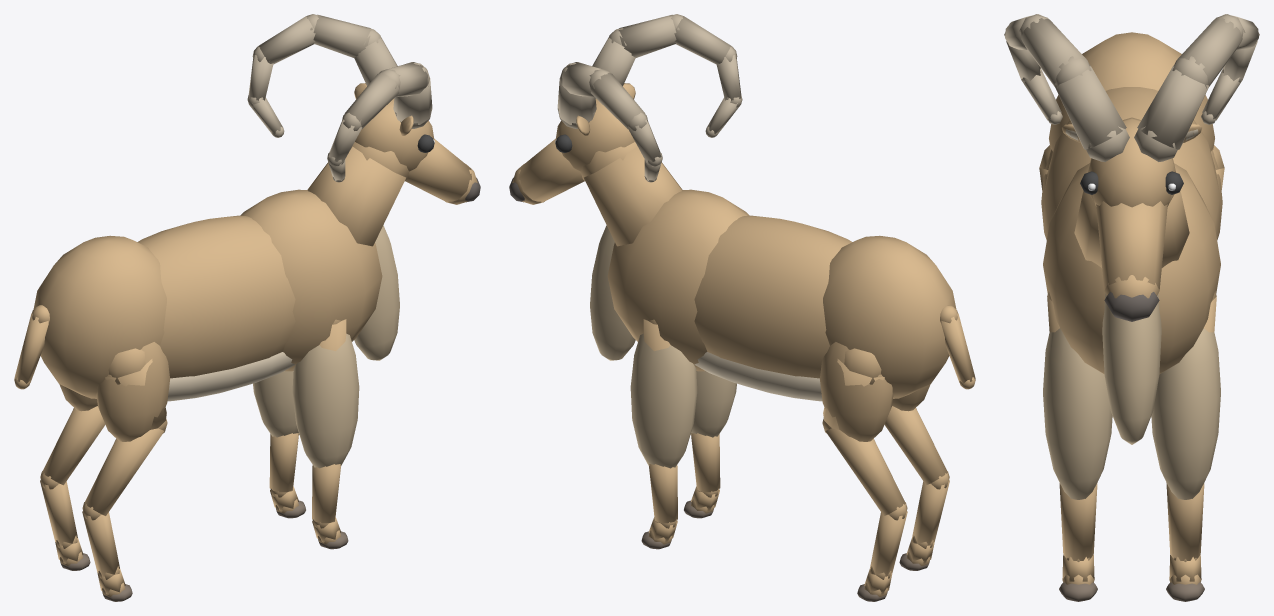
Rendered from barbary-sheep.glb.
3 views of the same model, side by side, from view 1: azimuth 30°, elevation 25°; view 2: azimuth 150°, elevation 25°; view 3: azimuth 270°, elevation 25° (orthographic). The views are drawn at different scales.
Parts seen in each view (by area): view 1: e, e.043, e.012, e.004, e.030, e.022, e.075; view 2: e, e.043, e.030, e.022, e.012, e.004, e.075; view 3: e, e.043, e.004, e.022, e.030, e.012.
Boxes of the visible parts, left/top/right/bottom form: e: left=33, top=142, right=409, bottom=401; e.043: left=247, top=14, right=480, bottom=204; e.012: left=82, top=342, right=169, bottom=601; e.004: left=292, top=319, right=359, bottom=549; e.030: left=40, top=384, right=105, bottom=570; e.022: left=253, top=371, right=305, bottom=518; e.075: left=14, top=305, right=49, bottom=389; e: left=580, top=142, right=956, bottom=401; e.043: left=509, top=14, right=742, bottom=204; e.030: left=820, top=342, right=907, bottom=601; e.022: left=630, top=319, right=697, bottom=549; e.012: left=884, top=384, right=949, bottom=570; e.004: left=684, top=371, right=736, bottom=518; e.075: left=940, top=305, right=975, bottom=389; e: left=1043, top=32, right=1220, bottom=444; e.043: left=1004, top=14, right=1259, bottom=321; e.004: left=1043, top=291, right=1112, bottom=601; e.022: left=1151, top=291, right=1220, bottom=601; e.030: left=1211, top=145, right=1224, bottom=239; e.012: left=1039, top=145, right=1052, bottom=239.
Size of the model in its own units: 1.14 by 1.13 by 0.4304.
